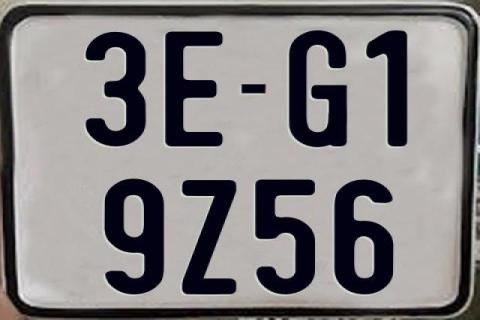0: (84, 32, 149, 150), (104, 178, 168, 296), (333, 180, 395, 300), (254, 178, 314, 294), (365, 31, 408, 149)
E: (165, 30, 228, 146)
G: (286, 29, 350, 149)
Z: (180, 178, 238, 294)
